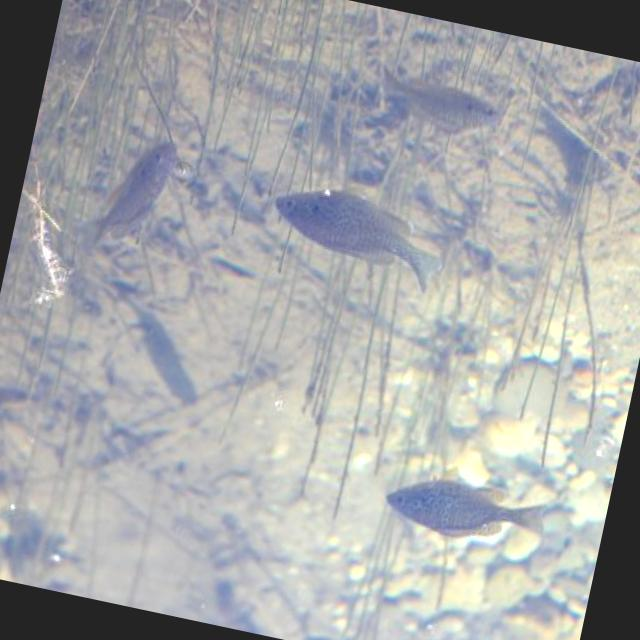Gunes Levregi: (352, 428, 562, 562)
